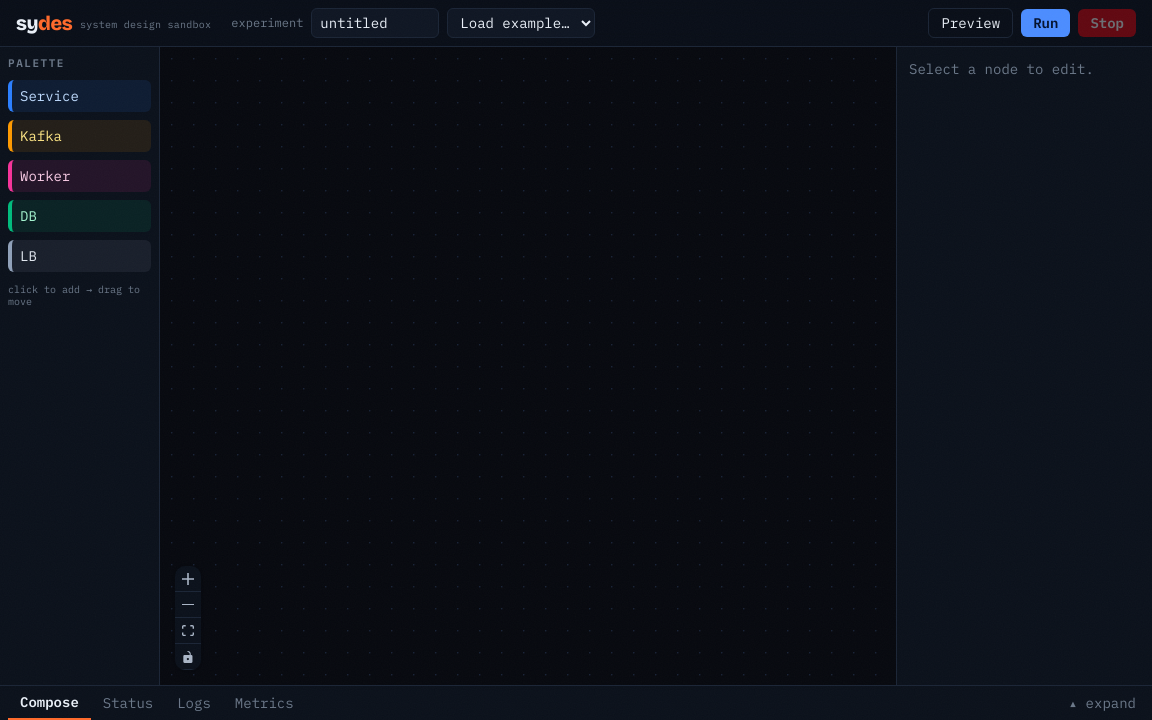
Test case: App brick 3 › Stop shows the Stopped badge
Click the button "Run".
click(1046, 23)  # box left=1021, top=9, right=1070, bottom=37
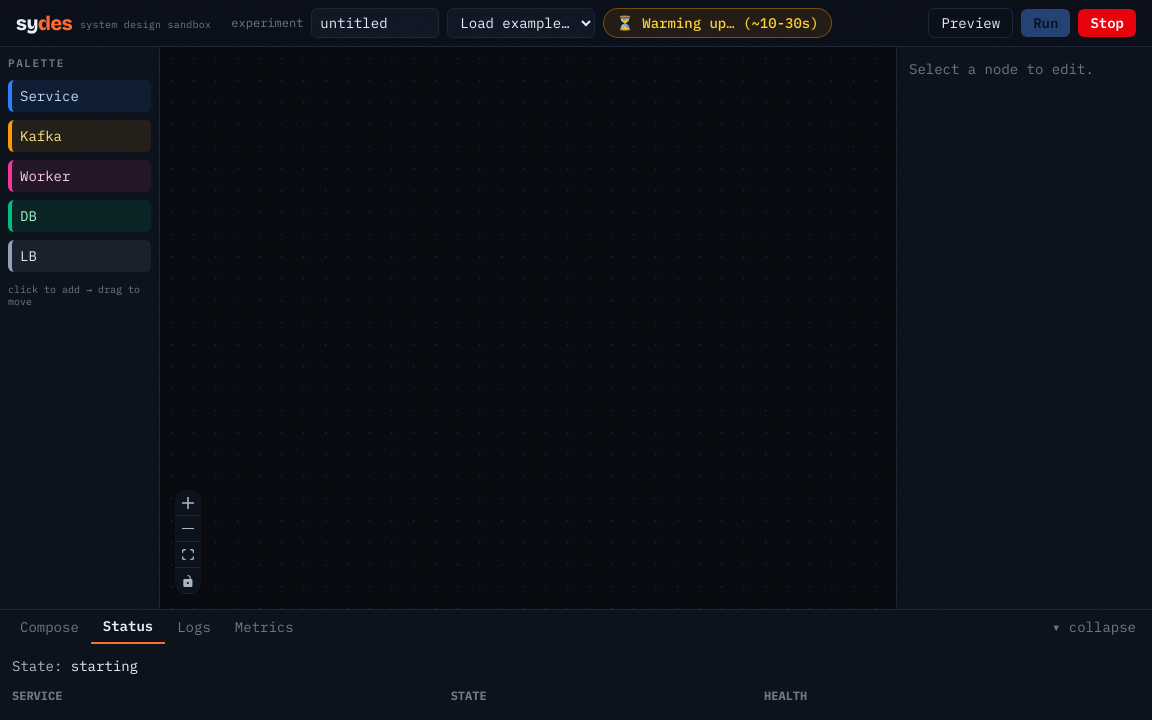
Click the button "Stop".
click(1107, 23)  # box left=1078, top=9, right=1136, bottom=37
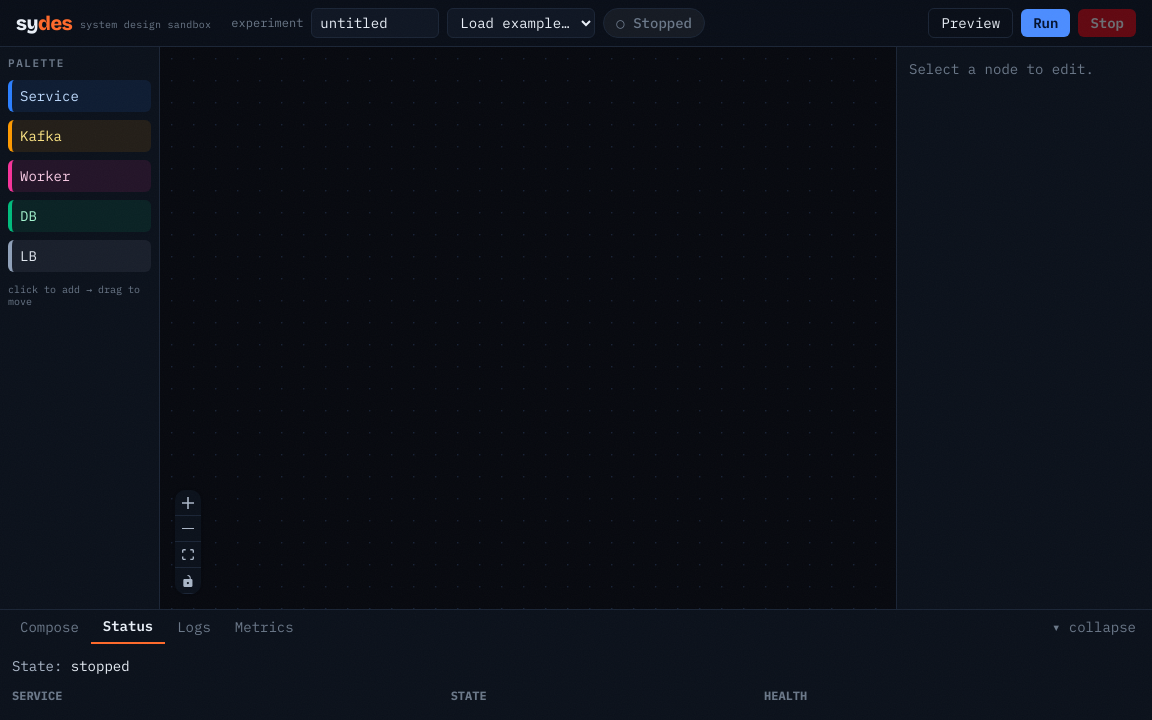
Check: the text "○ Stopped" is shown, box left=603, top=8, right=705, bottom=38
